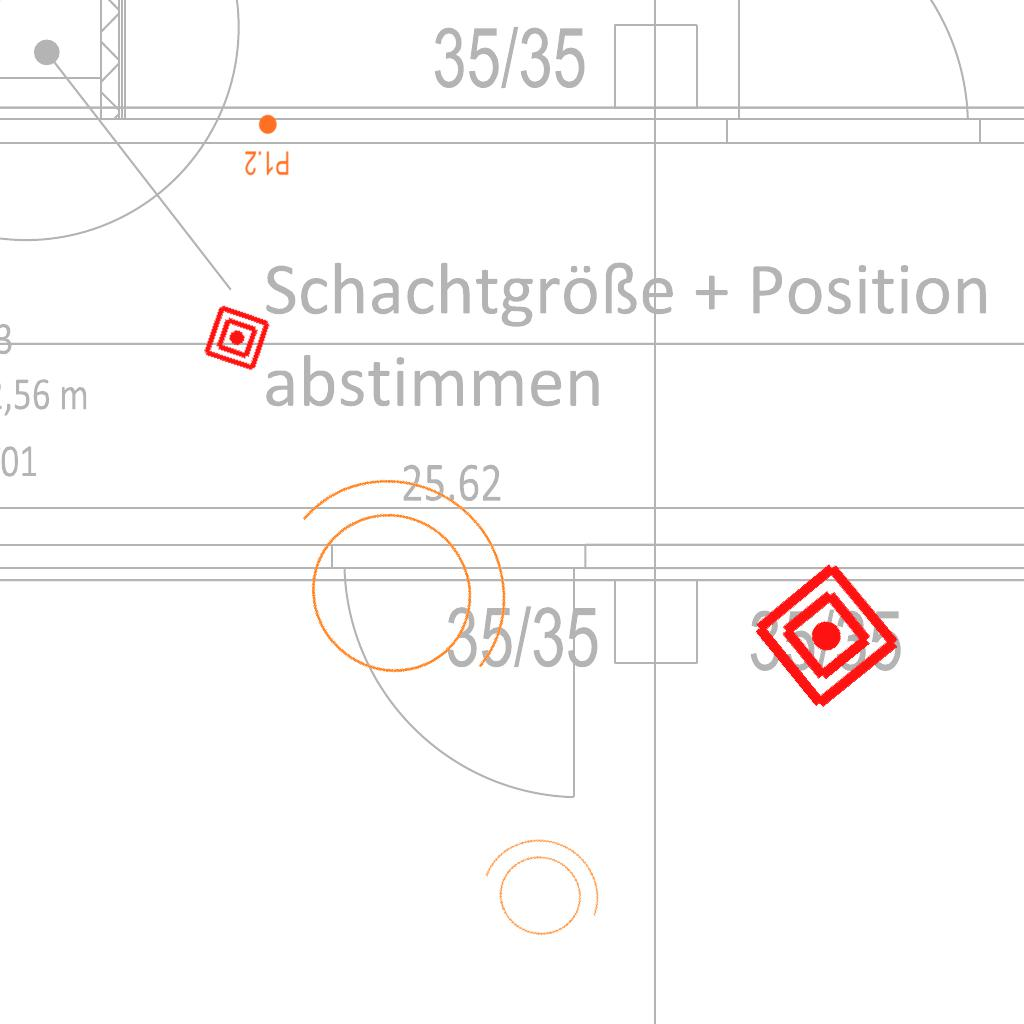Downlight_LED_Einbauleuchten_Flur: (244, 113, 290, 177)
NAM-Nichtautomatischer_Melder: (747, 556, 906, 715), (201, 302, 273, 374)
Scheinwerfer_fuer_Alarmbeleuchtung: (219, 410, 567, 753), (457, 814, 621, 966)
